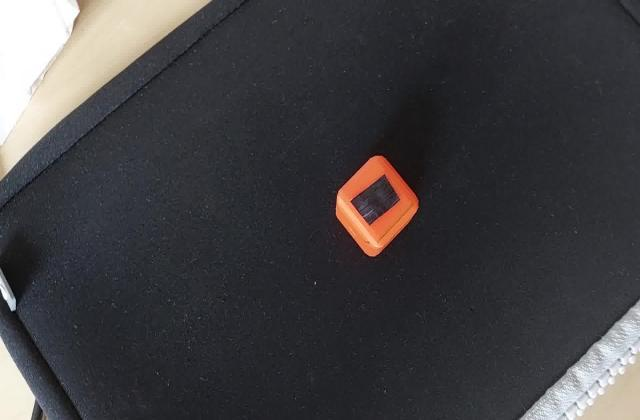black: (342, 174, 404, 228)
sticker: (332, 154, 422, 262)
